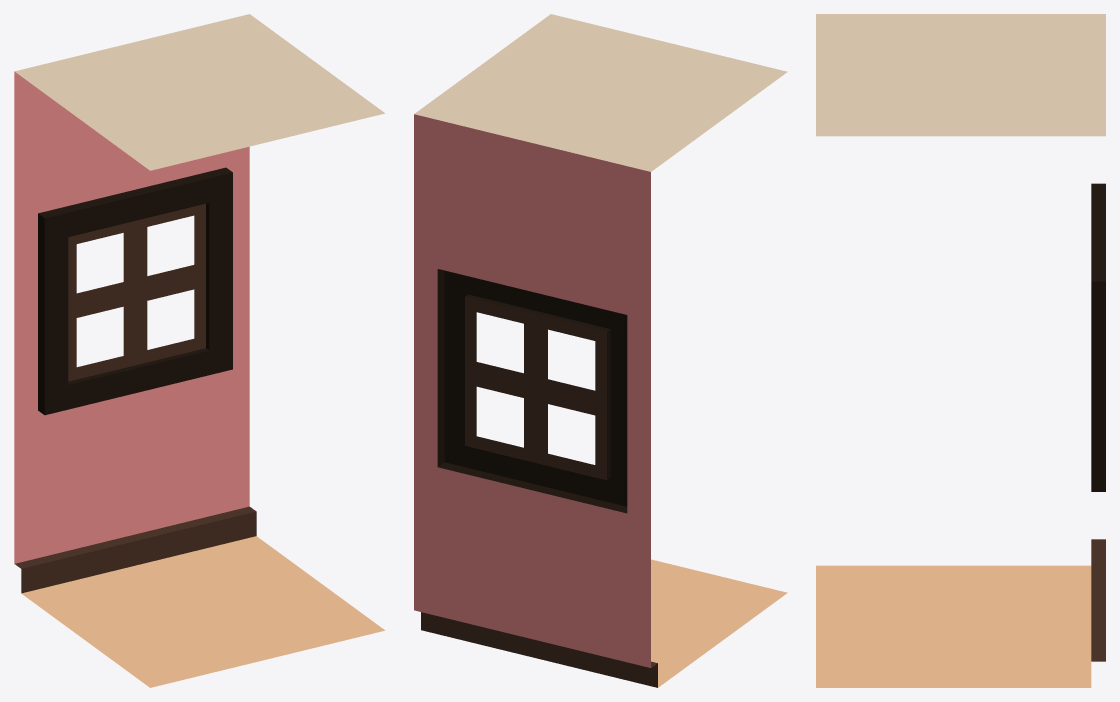
File: Couloir_fenetre_1x1.fbx
The picture shows the model from 3 angles, left to right: view 1: azimuth 30°, elevation 25°; view 2: azimuth 150°, elevation 25°; view 3: azimuth 270°, elevation 25°; orthographic projection. The views are drawn at different scales.
Visible parts, largest first — view 1: Couloir_fenetre_1x1; view 2: Couloir_fenetre_1x1; view 3: Couloir_fenetre_1x1.
Part boxes in pixels (x1=…): Couloir_fenetre_1x1: x1=14, y1=14, x2=385, y2=687; Couloir_fenetre_1x1: x1=414, y1=14, x2=787, y2=687; Couloir_fenetre_1x1: x1=816, y1=14, x2=1105, y2=687.
Size of the model in its own units: 1 by 2.1 by 1.
